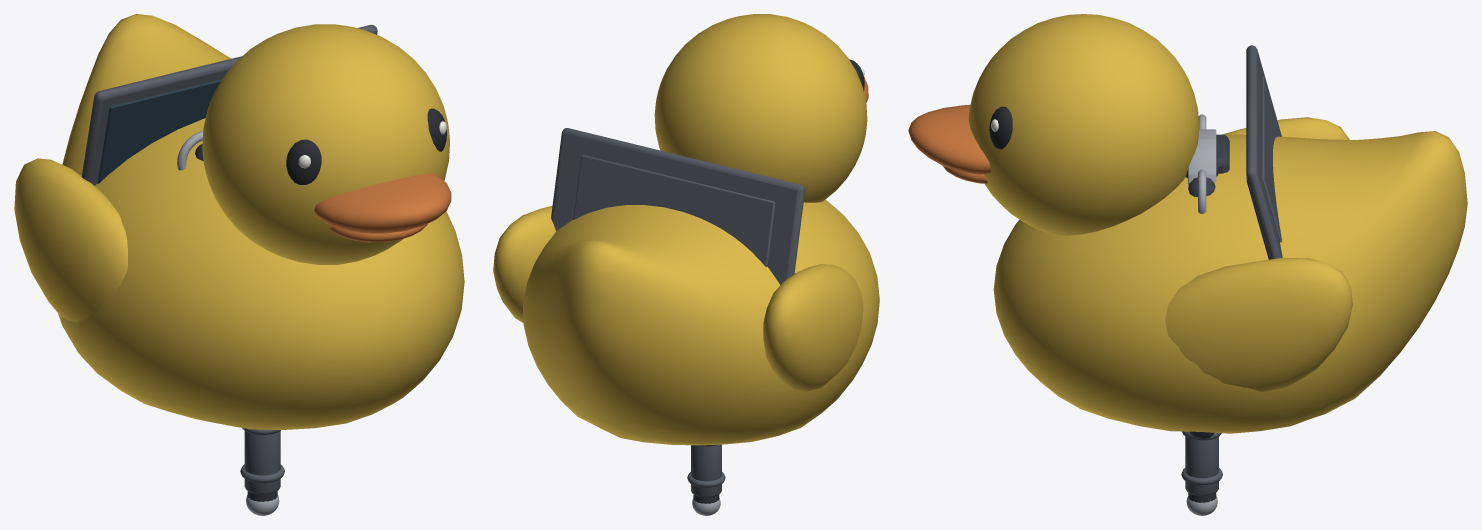
Rendered from items_upload_v3.glb.
3 views of the same model, side by side, from view 1: azimuth 30°, elevation 25°; view 2: azimuth 150°, elevation 25°; view 3: azimuth 270°, elevation 25° (orthographic). The views are drawn at different scales.
Parts seen in each view (by area): view 1: duck_body__pd6b445, duck_beak__pc9773d, laptop_screen__p2e4250, laptop_lid__p565b65, wand_sleeve__p565b65, duck_eye__p2b2d33; view 2: duck_body__pd6b445, laptop_lid__p565b65, wand_sleeve__p565b65; view 3: duck_body__pd6b445, laptop_lid__p565b65, duck_beak__pc9773d, wand_sleeve__p565b65, smoke_spoon__pa3a8b0, duck_eye__p2b2d33.
Boxes of the visible parts, left/top/right/bottom form: duck_body__pd6b445: left=14, top=14, right=464, bottom=429; duck_beak__pc9773d: left=314, top=173, right=451, bottom=242; laptop_screen__p2e4250: left=97, top=79, right=221, bottom=183; laptop_lid__p565b65: left=81, top=25, right=377, bottom=185; wand_sleeve__p565b65: left=240, top=428, right=284, bottom=494; duck_eye__p2b2d33: left=286, top=108, right=446, bottom=184; duck_body__pd6b445: left=493, top=14, right=879, bottom=445; laptop_lid__p565b65: left=551, top=128, right=804, bottom=284; wand_sleeve__p565b65: left=687, top=444, right=725, bottom=497; duck_body__pd6b445: left=968, top=14, right=1467, bottom=433; laptop_lid__p565b65: left=1246, top=45, right=1282, bottom=259; duck_beak__pc9773d: left=908, top=104, right=990, bottom=183; wand_sleeve__p565b65: left=1181, top=431, right=1222, bottom=495; smoke_spoon__pa3a8b0: left=1188, top=132, right=1216, bottom=184; duck_eye__p2b2d33: left=989, top=106, right=1012, bottom=149.
Bounding box in the file's own units: 4.2 × 5.69 × 5.9.
